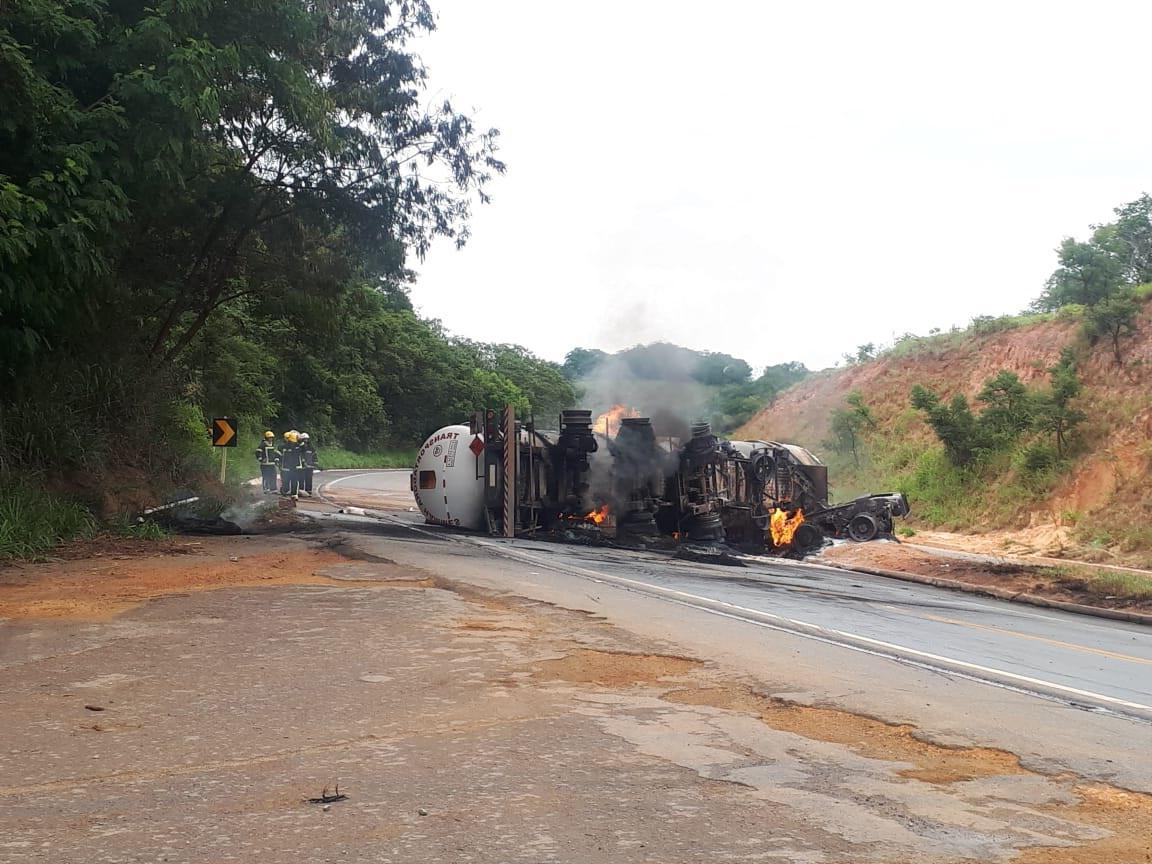Fire: (768, 507, 805, 548), (589, 509, 612, 523)
